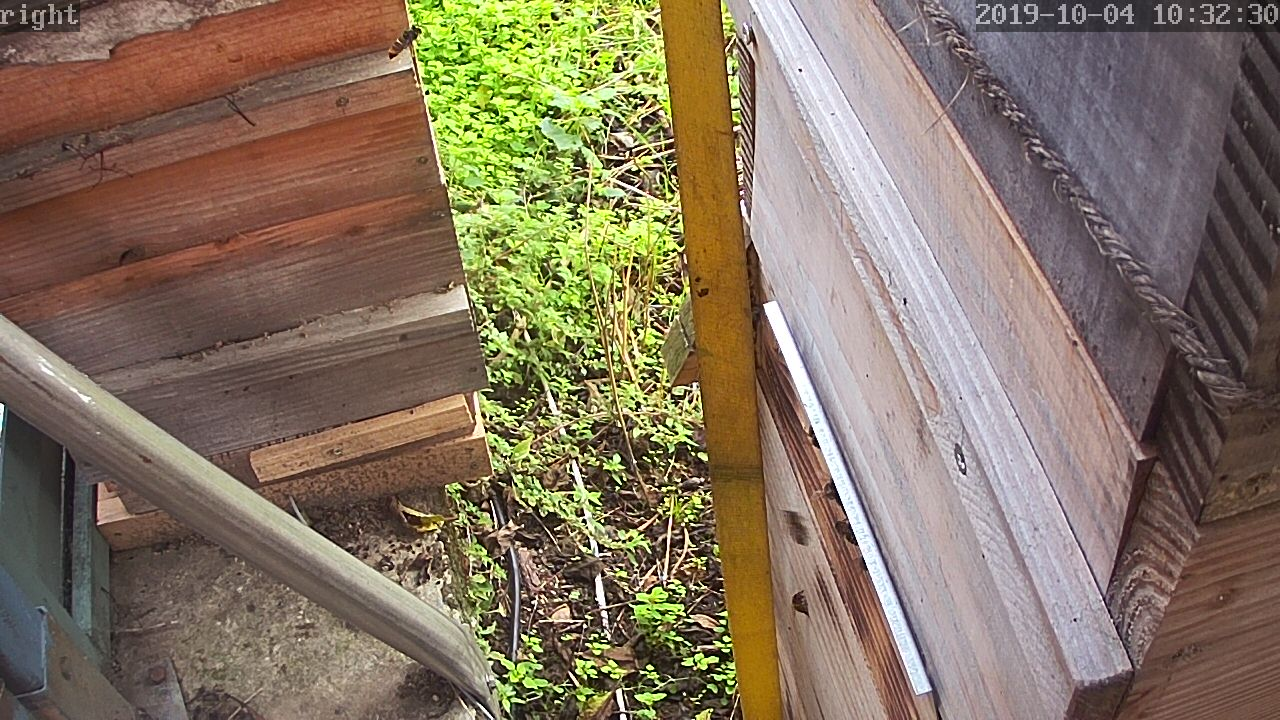bee: (827, 509, 868, 555), (784, 581, 821, 615), (816, 476, 847, 508)
hornet: (383, 24, 428, 66)
